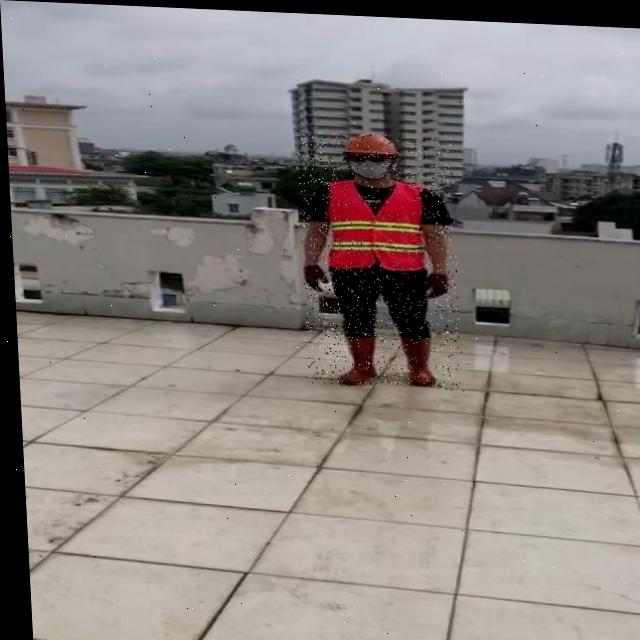Gloves: (422, 268, 448, 295), (301, 261, 325, 287)
Safety-Boot: (333, 330, 375, 383), (397, 330, 433, 382)
Safety-Vest: (322, 174, 429, 269)
